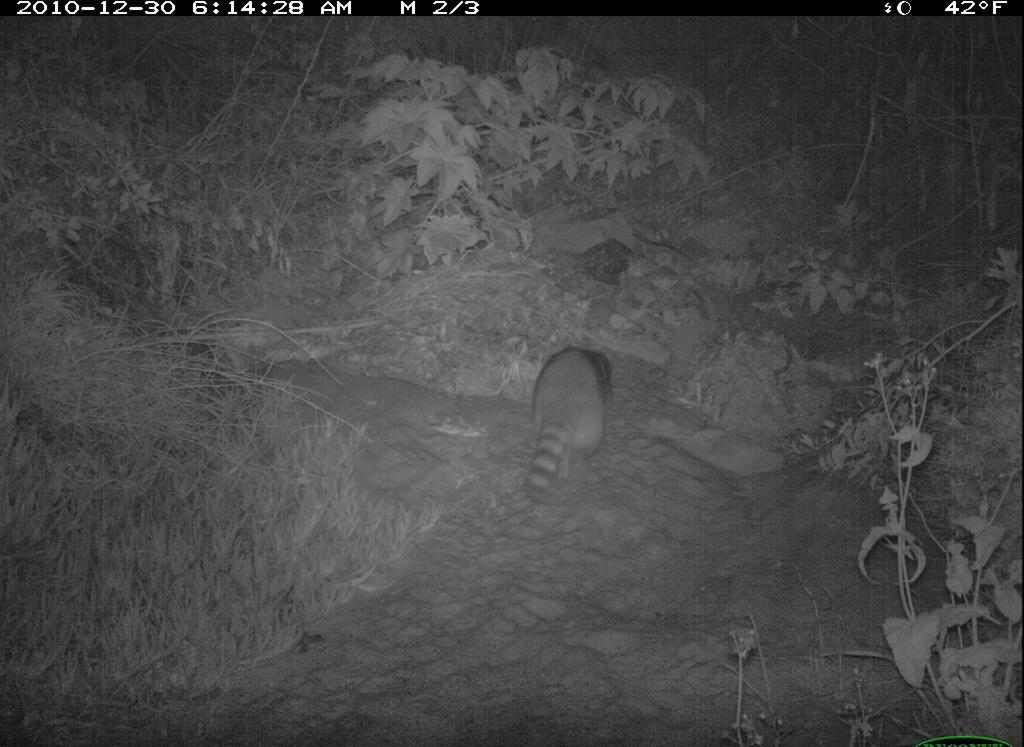raccoon: (511, 318, 628, 514)
